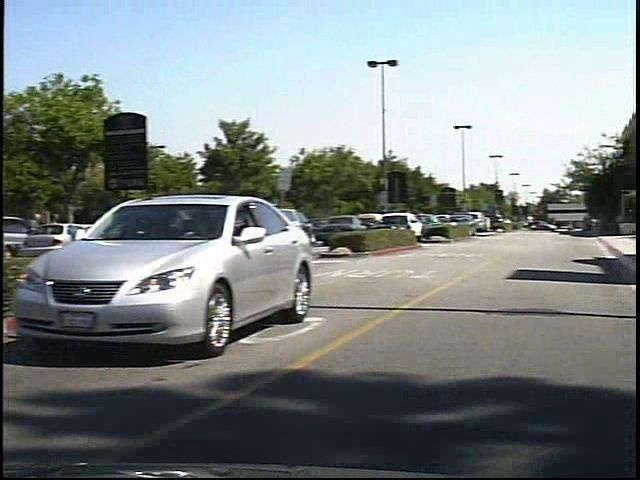person: (537, 213, 550, 236)
